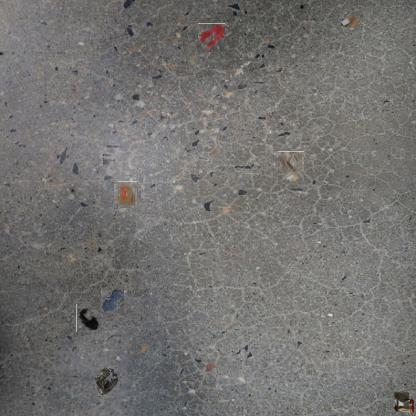dirty: (278, 151, 304, 182), (94, 366, 120, 396), (75, 305, 102, 332), (392, 391, 416, 415), (116, 183, 139, 206), (340, 10, 360, 30)
liquid: (197, 23, 226, 52), (101, 289, 126, 313)
